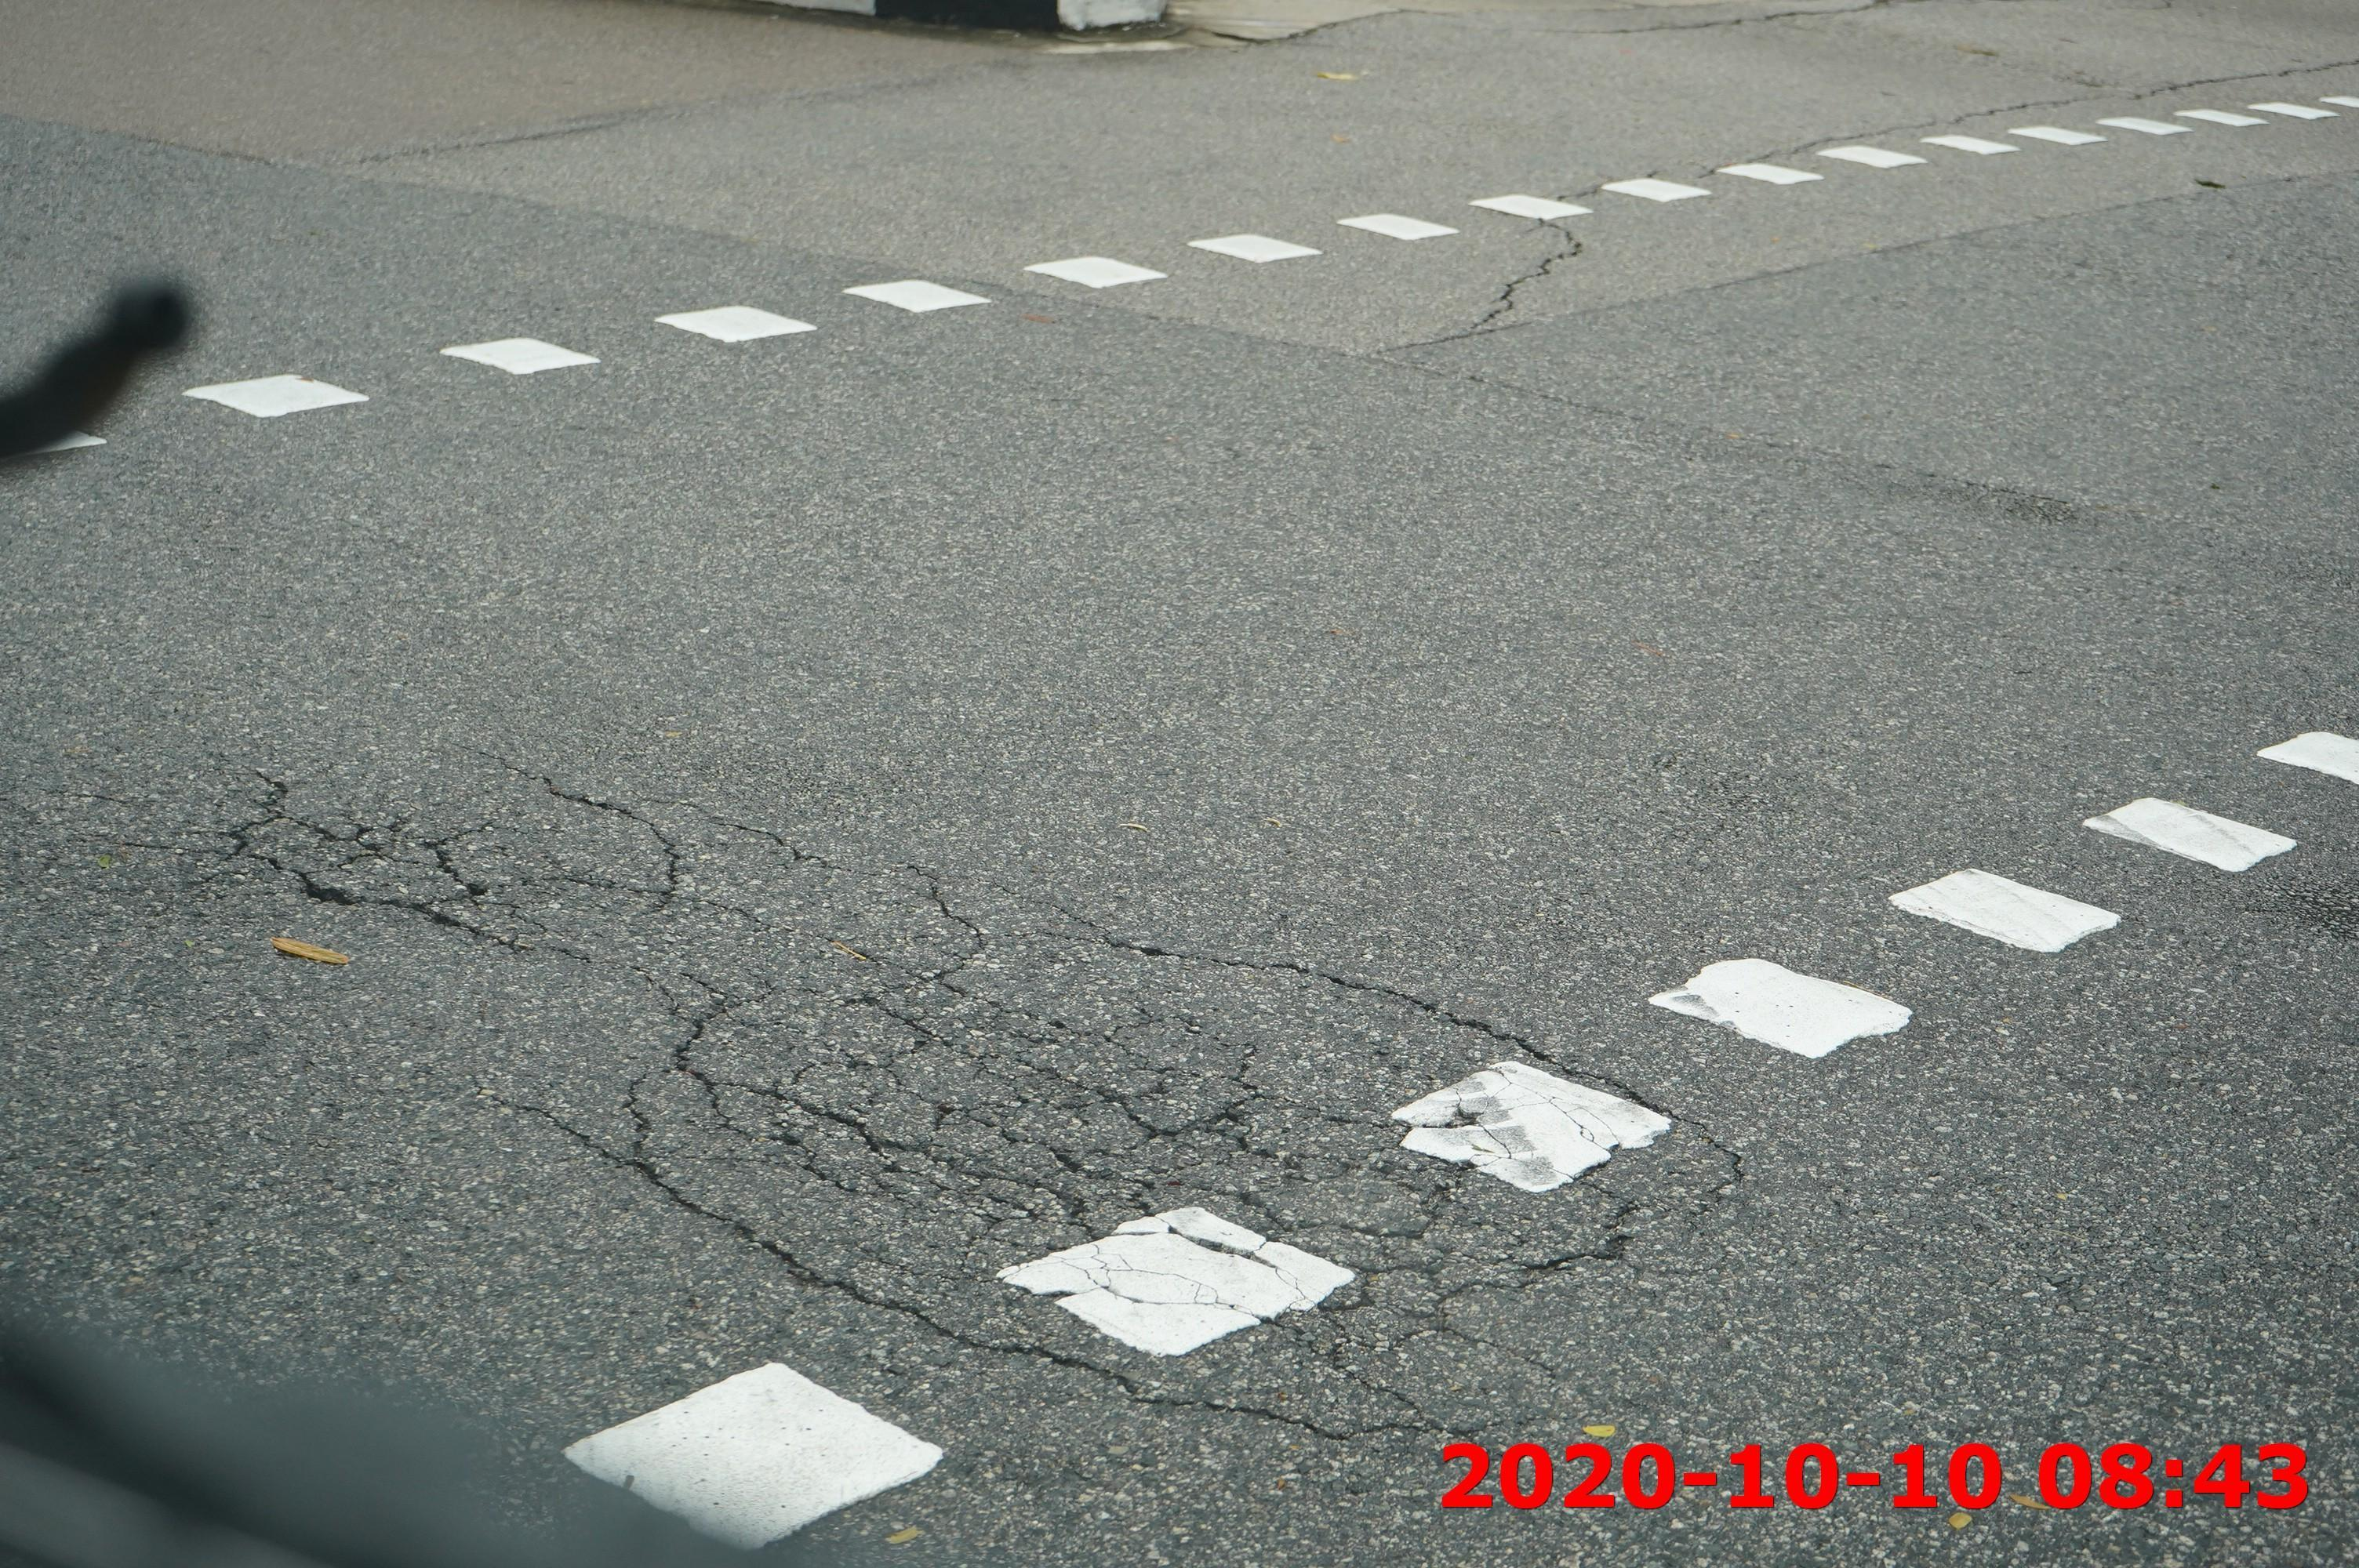alligator crack: (201, 737, 1740, 1472)
